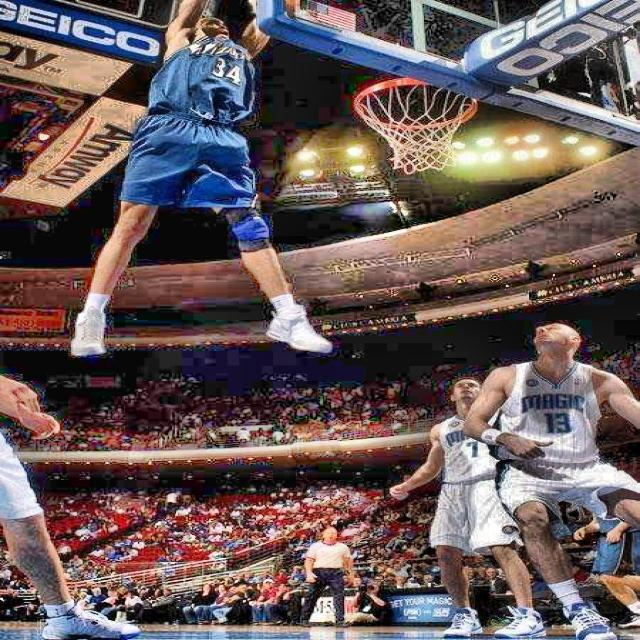rim: (352, 78, 480, 172)
